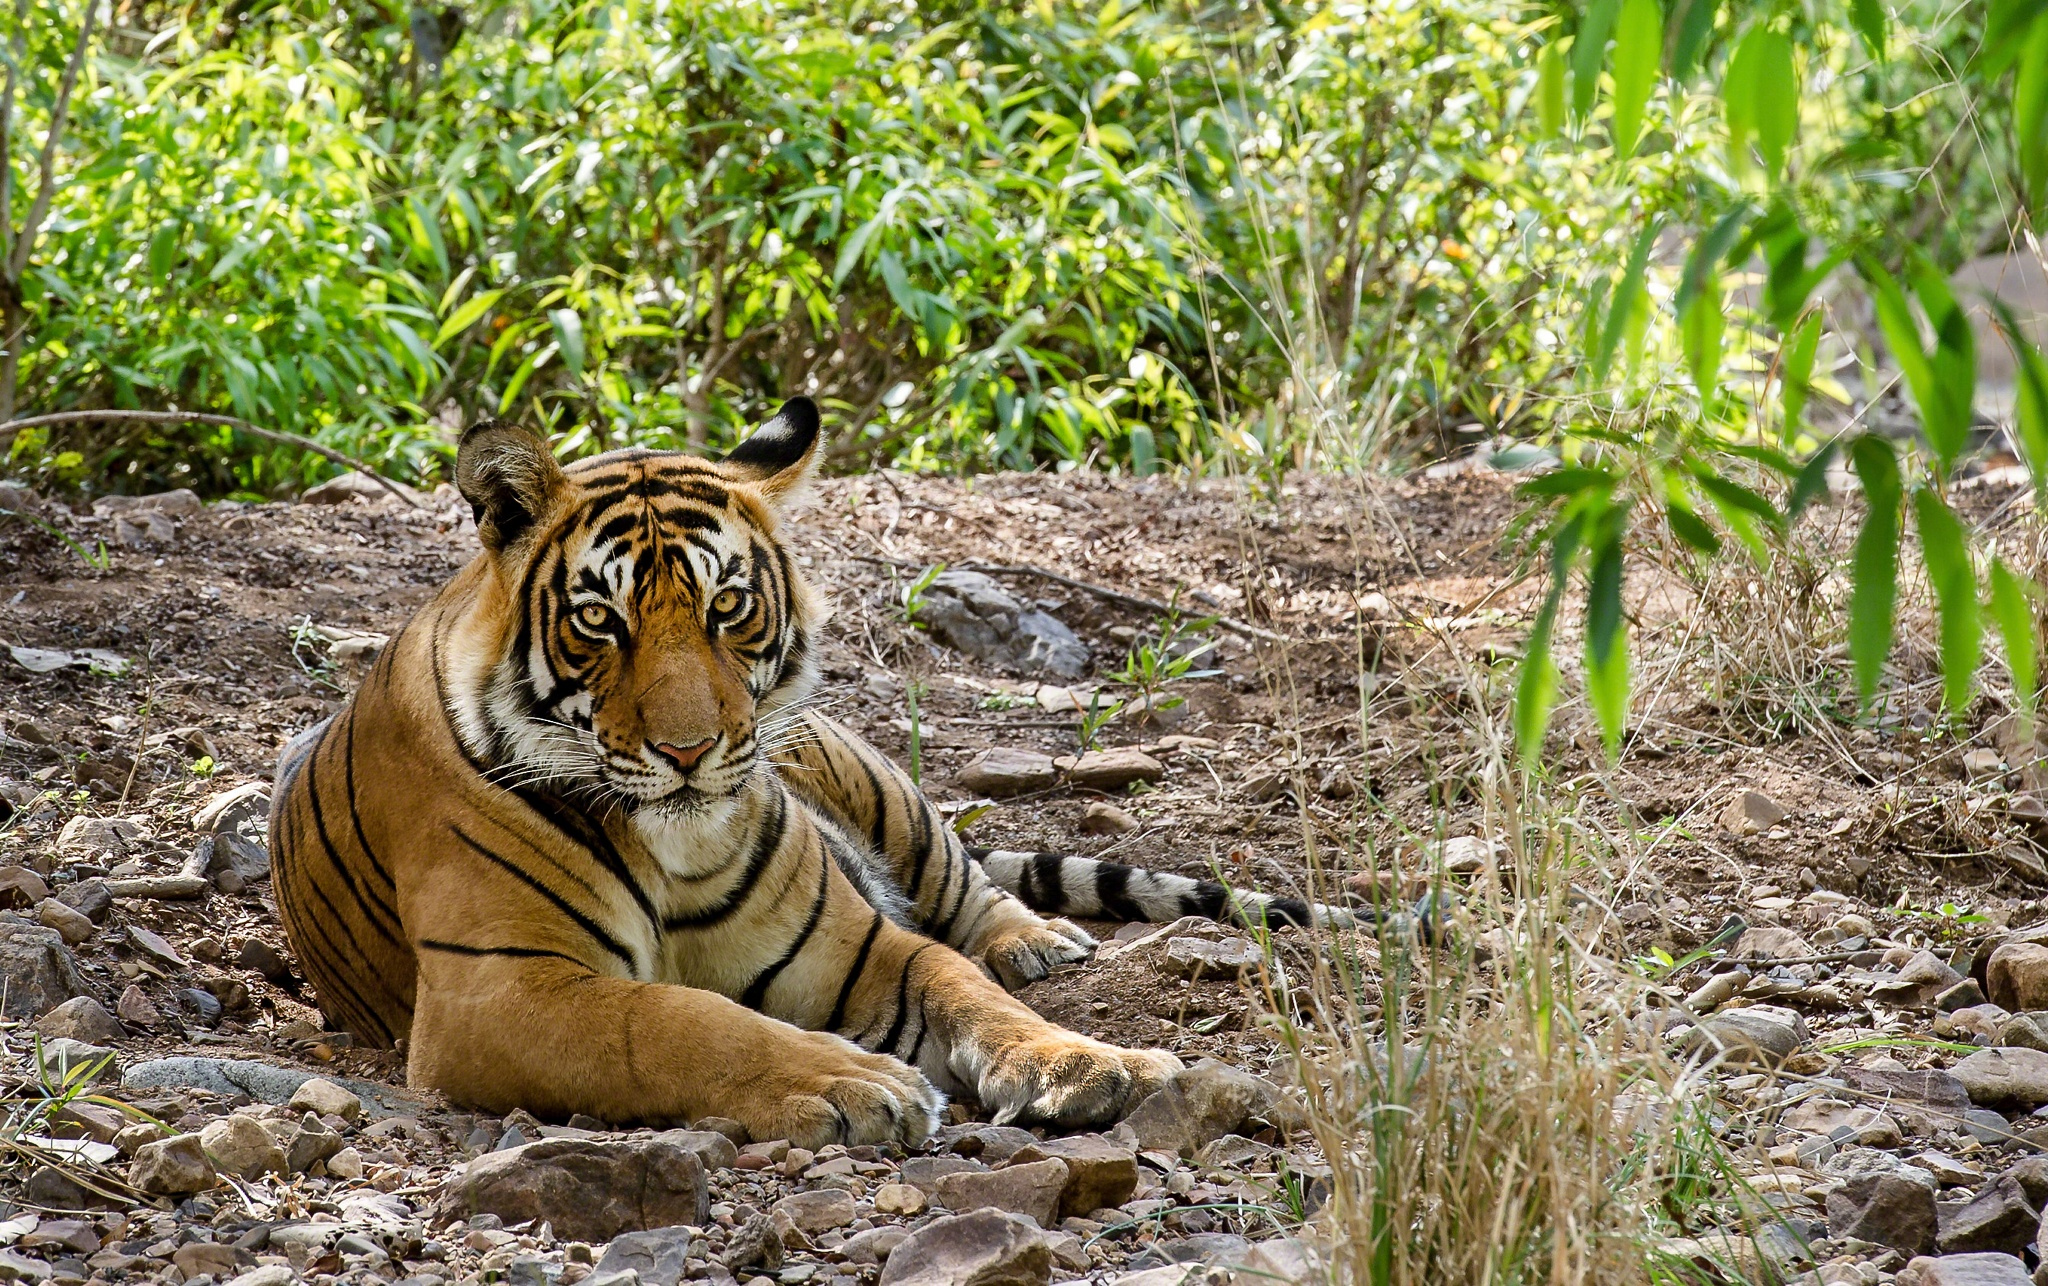tiger: (232, 394, 1271, 1176)
